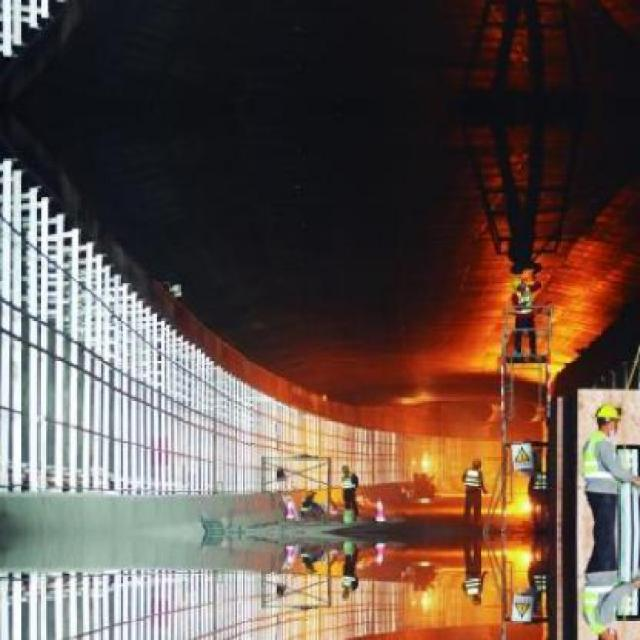hat: (585, 397, 622, 428)
